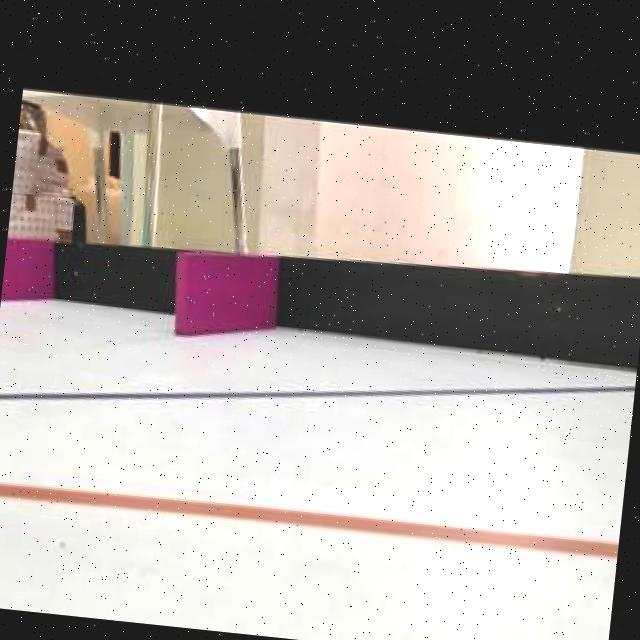xparking: (173, 246, 274, 338), (1, 236, 59, 300)
